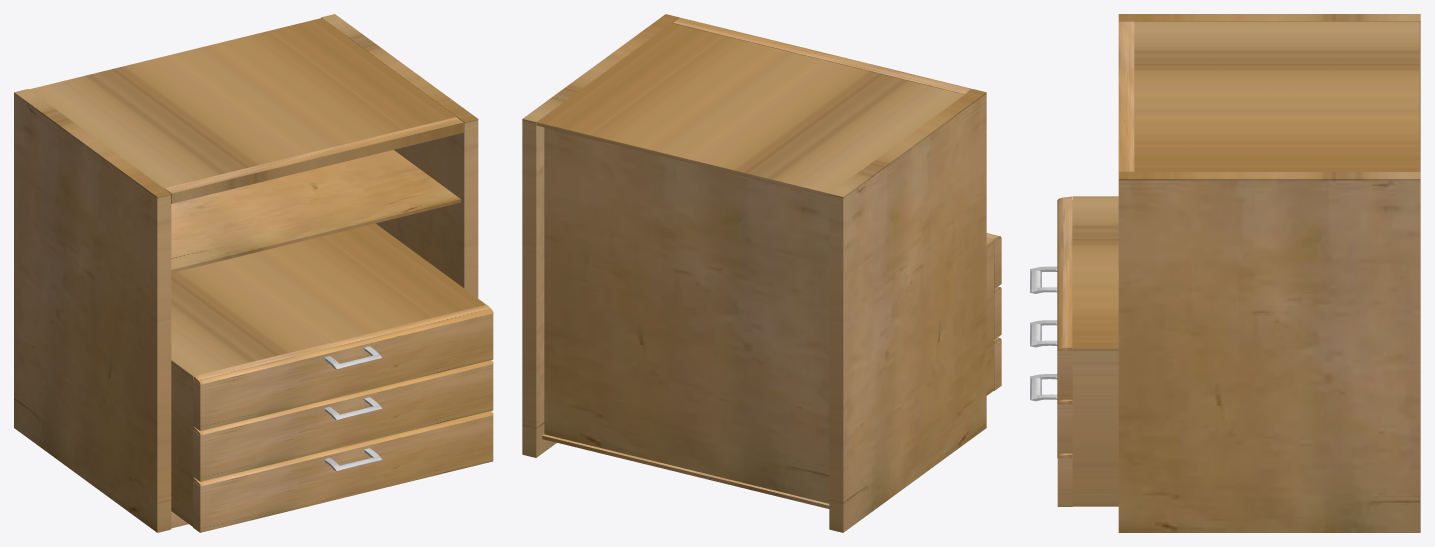
Rendered from sh-contrib-element-haut-salon.glb.
3 views of the same model, side by side, from view 1: azimuth 30°, elevation 25°; view 2: azimuth 150°, elevation 25°; view 3: azimuth 270°, elevation 25° (orthographic). The views are drawn at different scales.
Parts seen in each view (by area): view 1: Cube_1_1, pOIGNEE_13; view 2: Cube_1_1; view 3: Cube_1_1, pOIGNEE_13.
Part boxes in pixels (x1=…): Cube_1_1: x1=14, y1=14, x2=493, y2=532; pOIGNEE_13: x1=324, y1=346, x2=382, y2=470; Cube_1_1: x1=522, y1=14, x2=1001, y2=532; Cube_1_1: x1=1057, y1=14, x2=1420, y2=532; pOIGNEE_13: x1=1030, y1=266, x2=1057, y2=401.
Bounding box in the file's own units: 1 × 1 × 1.
Materials: 3 (2 with a texture image).
